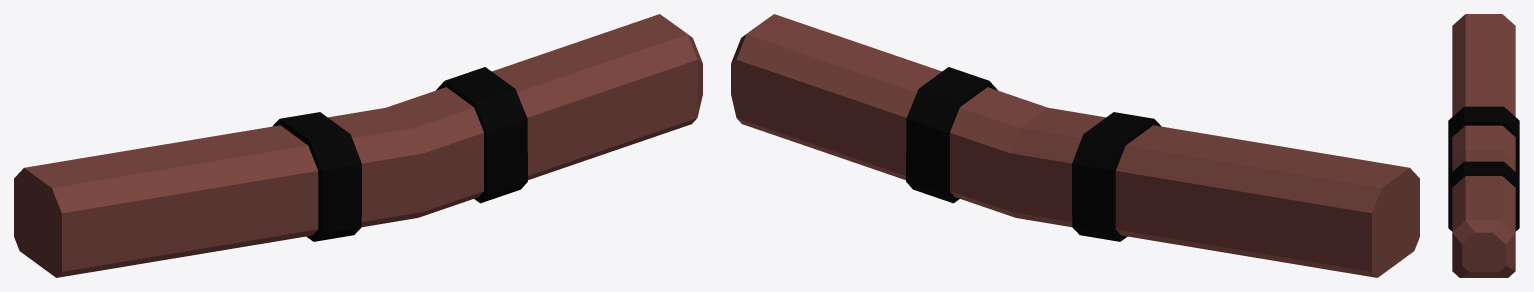
The model's file is Signboard Pole 01.fbx.
3 views of the same model, side by side, from view 1: azimuth 30°, elevation 25°; view 2: azimuth 150°, elevation 25°; view 3: azimuth 270°, elevation 25° (orthographic). The views are drawn at different scales.
Parts seen in each view (by area): view 1: Signboard Pole 01; view 2: Signboard Pole 01; view 3: Signboard Pole 01.
Boxes of the visible parts, bbox=[...] form: Signboard Pole 01: bbox=[14, 14, 702, 277]; Signboard Pole 01: bbox=[731, 14, 1419, 277]; Signboard Pole 01: bbox=[1448, 14, 1519, 277].
Bounding box in the file's own units: 212 × 36.04 × 30.54.
